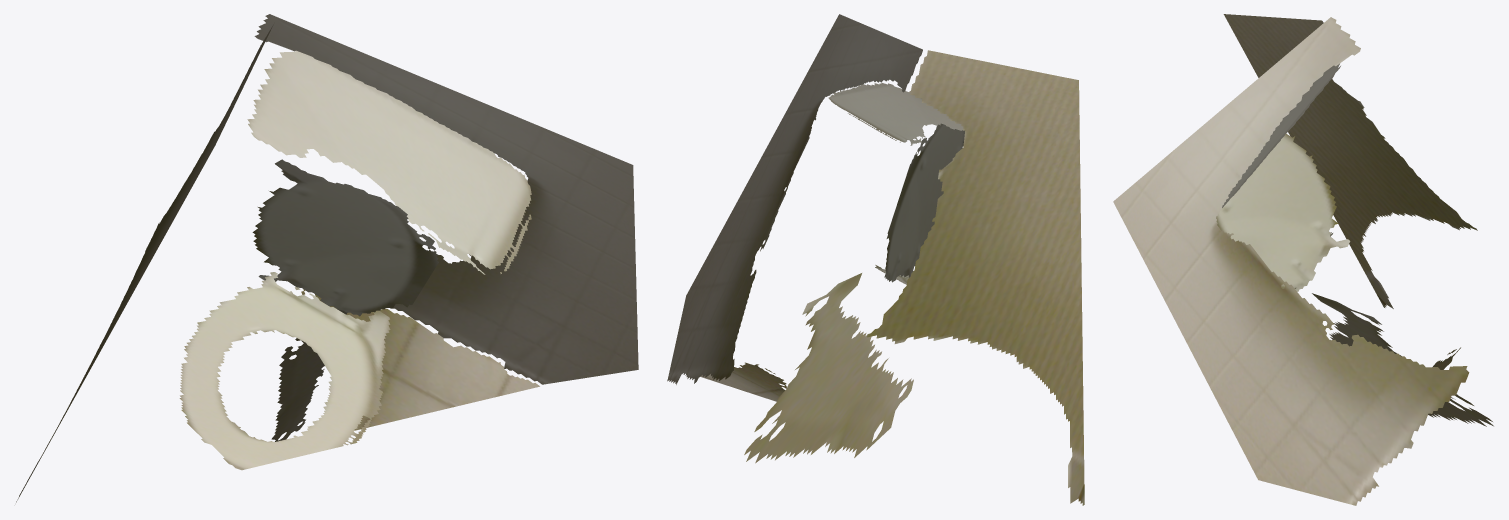
The model's file is 250_d2_depth_GTplane_gt_model.glb.
The picture shows the model from 3 angles, left to right: view 1: azimuth 30°, elevation 25°; view 2: azimuth 150°, elevation 25°; view 3: azimuth 270°, elevation 25°; orthographic projection. The views are drawn at different scales.
Size of the model in its own units: 1.28 by 1.04 by 0.9385.
